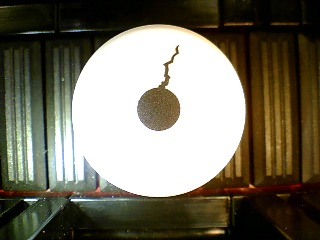CRACK: (71, 24, 246, 197)
